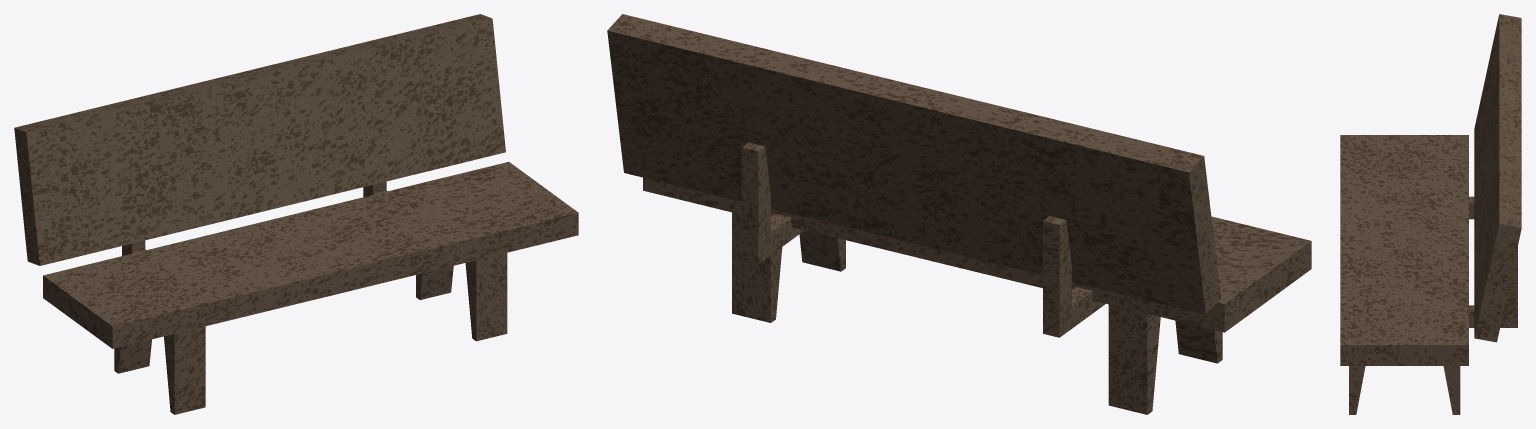
File: bench.fbx
3 views of the same model, side by side, from view 1: azimuth 30°, elevation 25°; view 2: azimuth 150°, elevation 25°; view 3: azimuth 270°, elevation 25° (orthographic). The views are drawn at different scales.
Parts seen in each view (by area): view 1: bench; view 2: bench; view 3: bench.
Part boxes in pixels (left/top/right/bottom): bench: left=14, top=14, right=578, bottom=414; bench: left=607, top=14, right=1311, bottom=414; bench: left=1340, top=14, right=1521, bottom=414.
Bounding box in the file's own units: 3.86 × 1.9 × 1.41.
